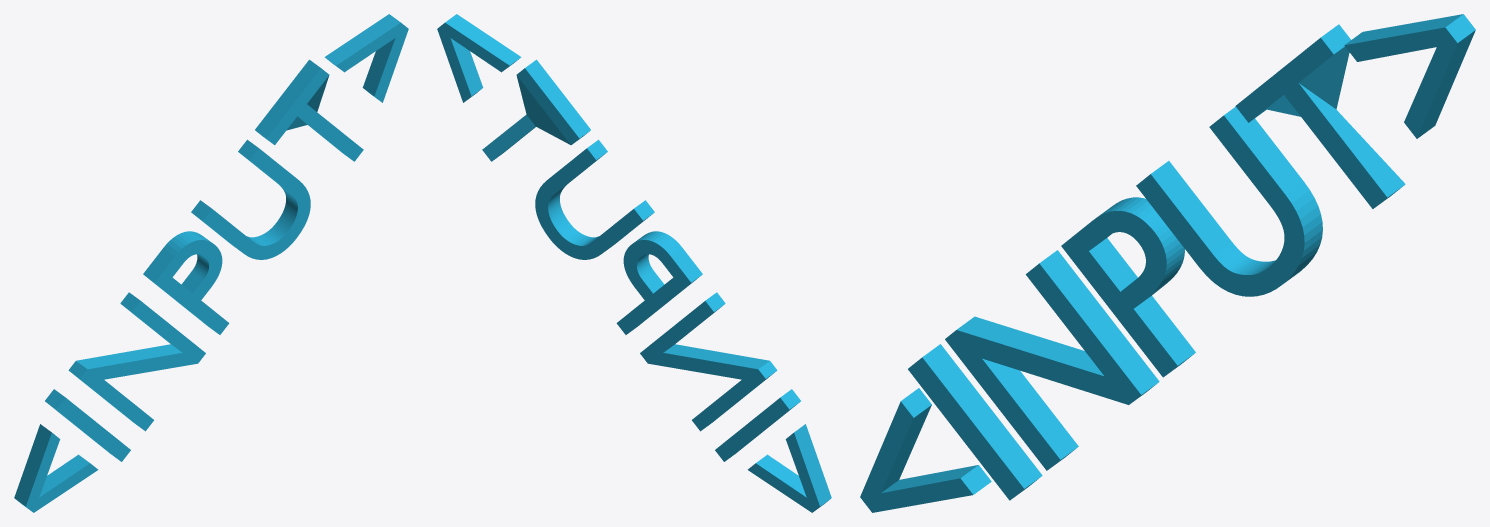
File: INPUTMODEL.glb
3 renders of one model, left to right at view 1: azimuth 30°, elevation 25°; view 2: azimuth 150°, elevation 25°; view 3: azimuth 330°, elevation 25°, orthographic. The views are drawn at different scales.
Visible parts, largest first — view 1: Text; view 2: Text; view 3: Text.
Boxes of the visible parts, x1,y1,x2,y2 form: Text: (14,14,408,512); Text: (437,14,831,512); Text: (860,14,1475,512).
Size of the model in its own units: 2.82 by 2.82 by 0.1501.
